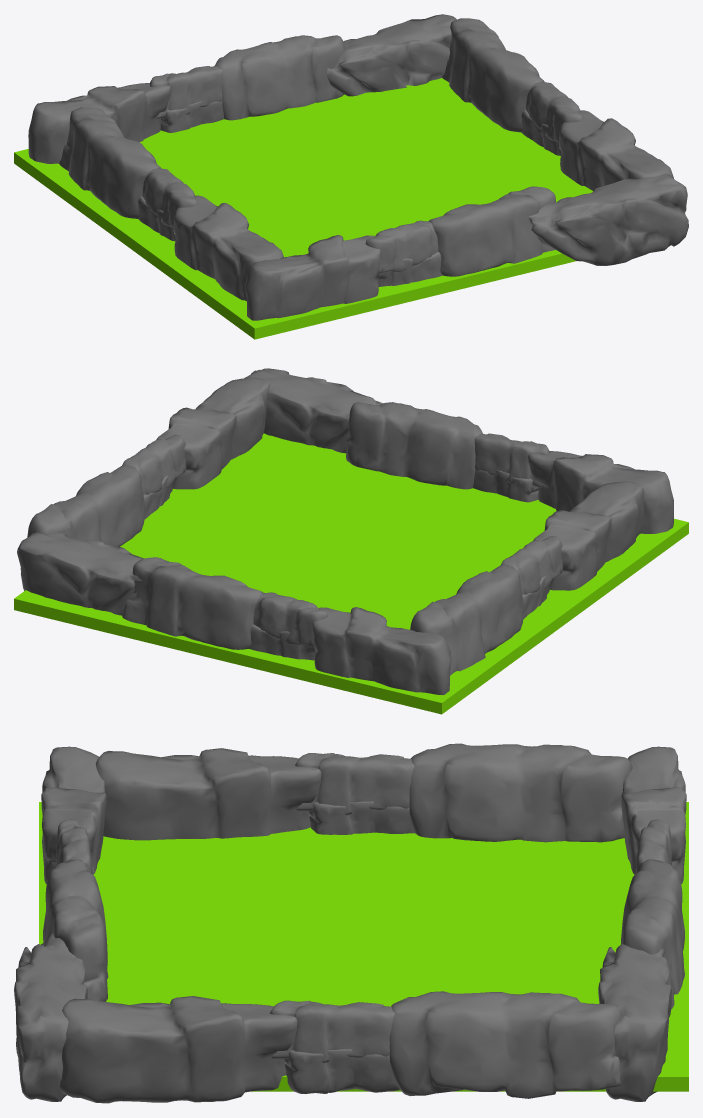
File: game_scene.glb
3 renders of one model, top to bottom at view 1: azimuth 30°, elevation 25°; view 2: azimuth 150°, elevation 25°; view 3: azimuth 270°, elevation 25°, orthographic. The views are drawn at different scales.
Parts seen in each view (by area): view 1: Cube.001, Stylized Rock 02.004, Stylized Rock 02.006, Stylized Rock 02.005, Stylized Rough Landscape Rock, Stylized Rough Landscape Rock.001; view 2: Cube.001, Stylized Rock 02.004, Stylized Rock 02.006, Stylized Rock 02.005, Stylized Rough Landscape Rock.001, Stylized Rough Landscape Rock; view 3: Cube.001, Stylized Rock 02.005, Stylized Rock 02.006, Stylized Rock 02.004, Stylized Rough Landscape Rock.001, Stylized Rough Landscape Rock.
Part boxes in pixels (box(x1,y1,x2,y2)): Cube.001: box(14, 78, 593, 339); Stylized Rock 02.004: box(28, 35, 555, 320); Stylized Rock 02.006: box(59, 107, 283, 300); Stylized Rock 02.005: box(442, 18, 673, 190); Stylized Rough Landscape Rock: box(528, 173, 688, 265); Stylized Rough Landscape Rock.001: box(327, 14, 456, 96); Cube.001: box(14, 433, 688, 714); Stylized Rock 02.004: box(122, 402, 673, 694); Stylized Rock 02.006: box(410, 481, 643, 675); Stylized Rock 02.005: box(27, 377, 269, 546); Stylized Rough Landscape Rock.001: box(17, 532, 143, 615); Stylized Rough Landscape Rock: box(244, 368, 382, 453); Cube.001: box(39, 802, 688, 1091); Stylized Rock 02.005: box(60, 991, 622, 1103); Stylized Rock 02.006: box(95, 743, 632, 842); Stylized Rock 02.004: box(41, 746, 686, 1009); Stylized Rough Landscape Rock.001: box(598, 944, 671, 1101); Stylized Rough Landscape Rock: box(14, 932, 87, 1101).
Bounding box in the file's own units: 22.05 × 3.7 × 21.82.
